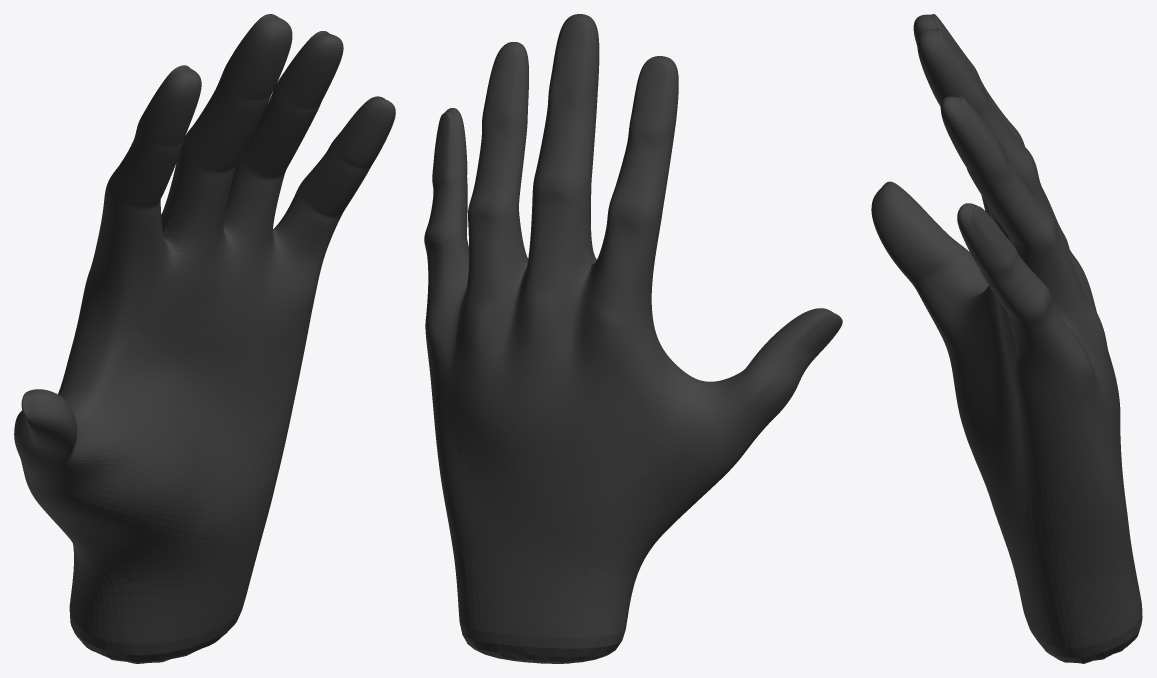
The model's file is hand.glb.
3 renders of one model, left to right at view 1: azimuth 30°, elevation 25°; view 2: azimuth 150°, elevation 25°; view 3: azimuth 270°, elevation 25°, orthographic. The views are drawn at different scales.
Parts seen in each view (by area): view 1: geometry_0; view 2: geometry_0; view 3: geometry_0.
Boxes of the visible parts, x1,y1,x2,y2 form: geometry_0: (14, 14, 395, 663); geometry_0: (424, 14, 842, 663); geometry_0: (871, 14, 1142, 663).
Size of the model in its own units: 1.59 by 2.47 by 0.9685.
1 material, 1 textured.
